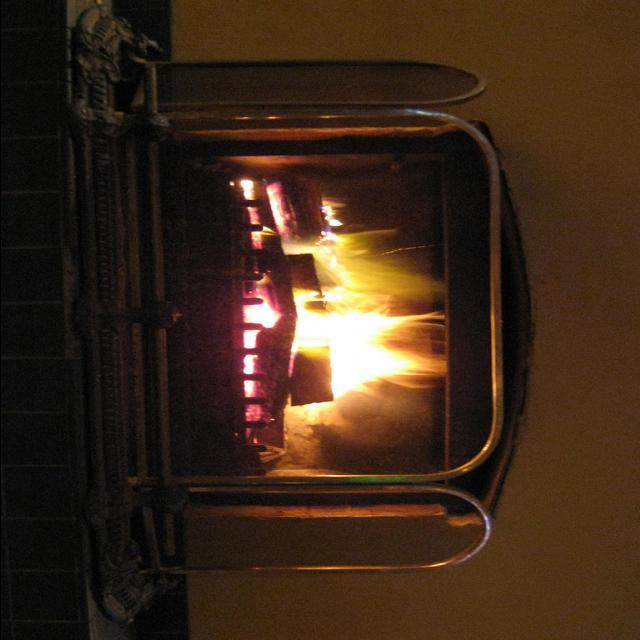Fire: (234, 177, 440, 451)
